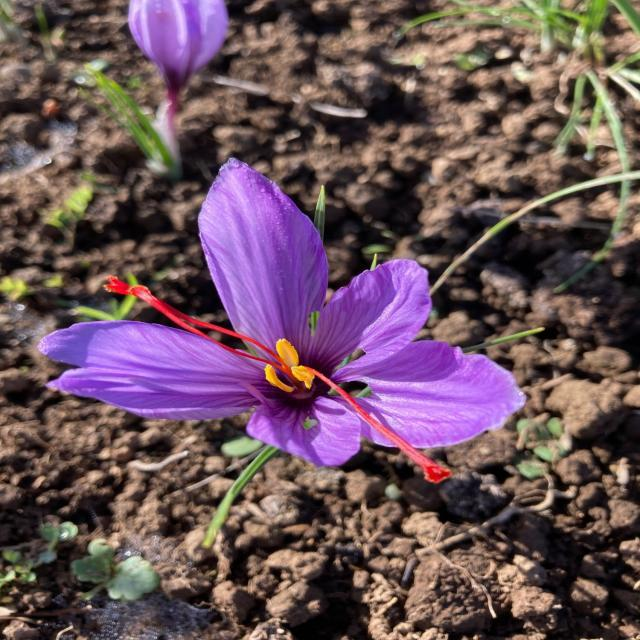Flower: (165, 224, 510, 467)
stigma: (114, 266, 338, 404), (328, 381, 456, 498)
